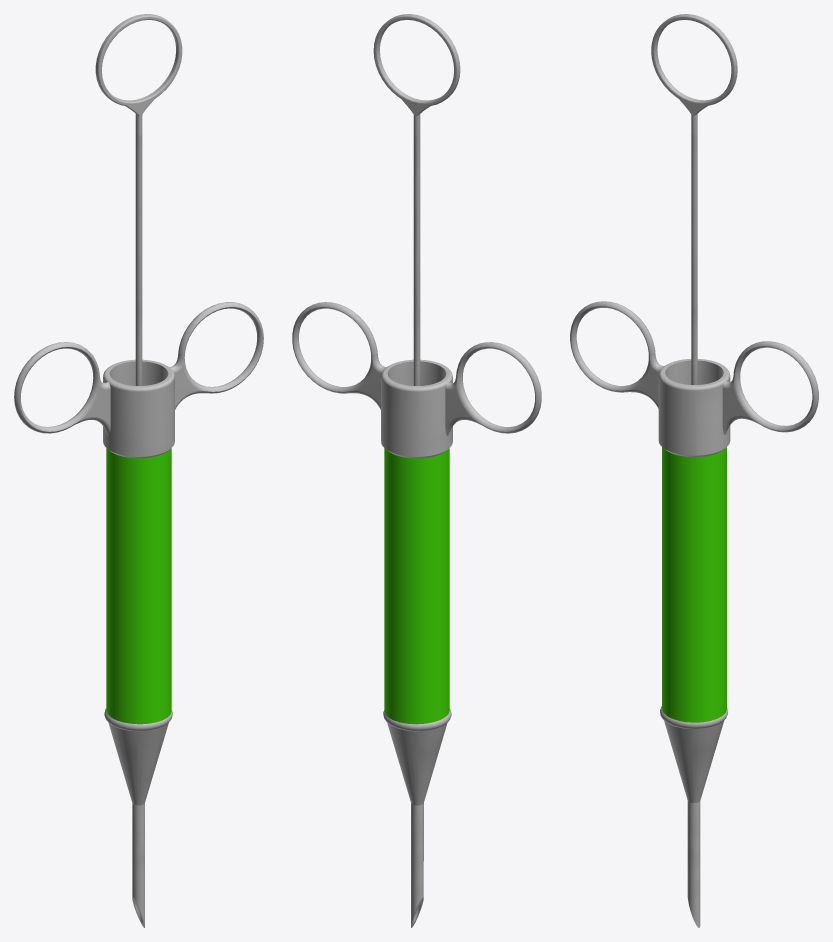
File: Syringe.fbx
The picture shows the model from 3 angles, left to right: view 1: azimuth 30°, elevation 25°; view 2: azimuth 150°, elevation 25°; view 3: azimuth 330°, elevation 25°; orthographic projection.
Parts seen in each view (by area): view 1: Syringe; view 2: Syringe; view 3: Syringe.
Boxes of the visible parts, bbox=[...] form: Syringe: bbox=[14, 14, 263, 927]; Syringe: bbox=[292, 14, 541, 927]; Syringe: bbox=[570, 14, 818, 927].
Size of the model in its own units: 1.09 by 3.81 by 0.271.
2 materials, 1 textured.
